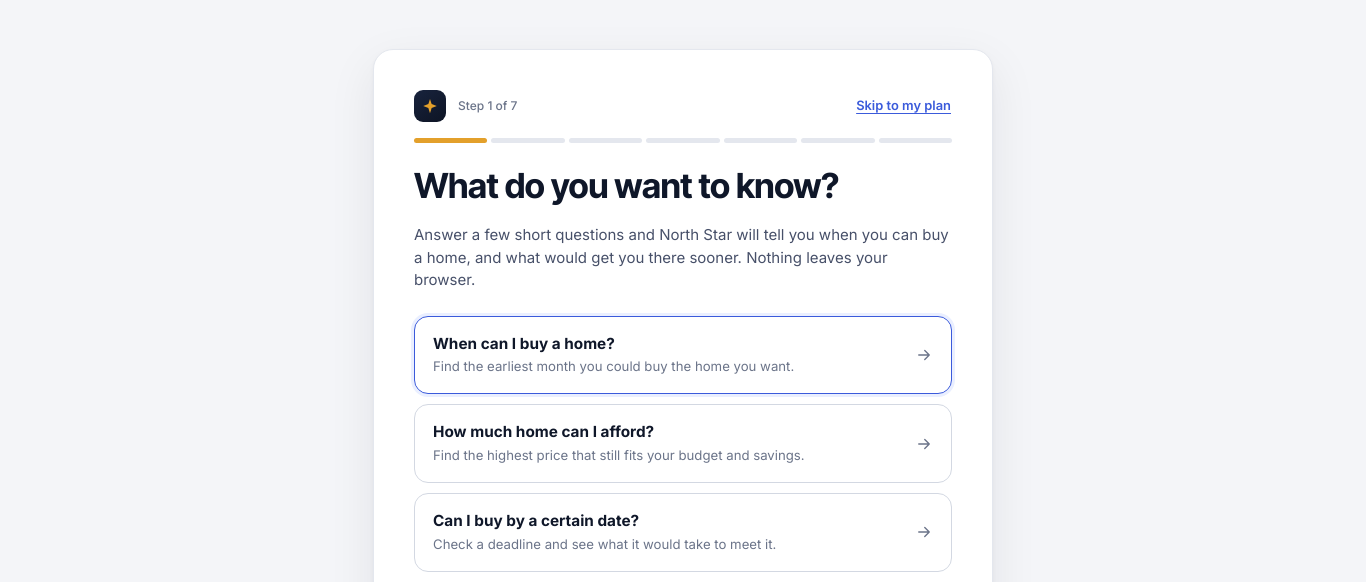
guided setup › starts returning visitors in the wizard with a way to skip
Expected: the heading "What do you want to know?" is shown, [414, 165, 839, 206]
Click the button "Skip to my plan" at (904, 106), box [855, 95, 952, 116]
(page scrolled)
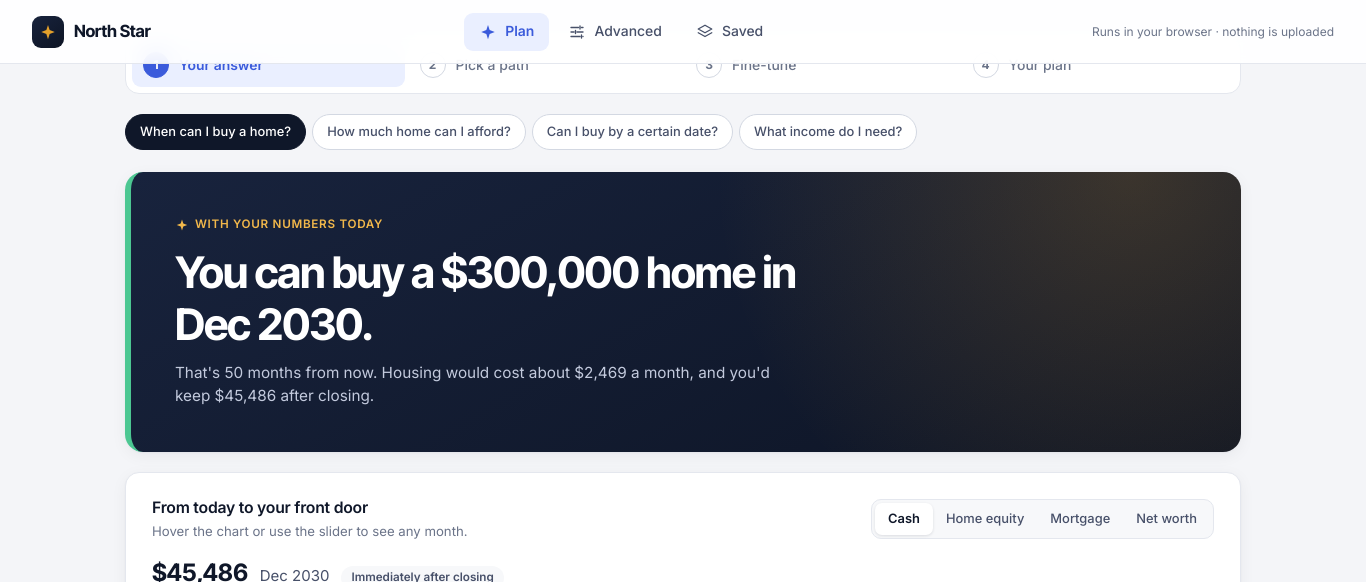
Expected: the heading "You can buy a $300,000 home in Dec 2030." is shown, [175, 246, 859, 350]
